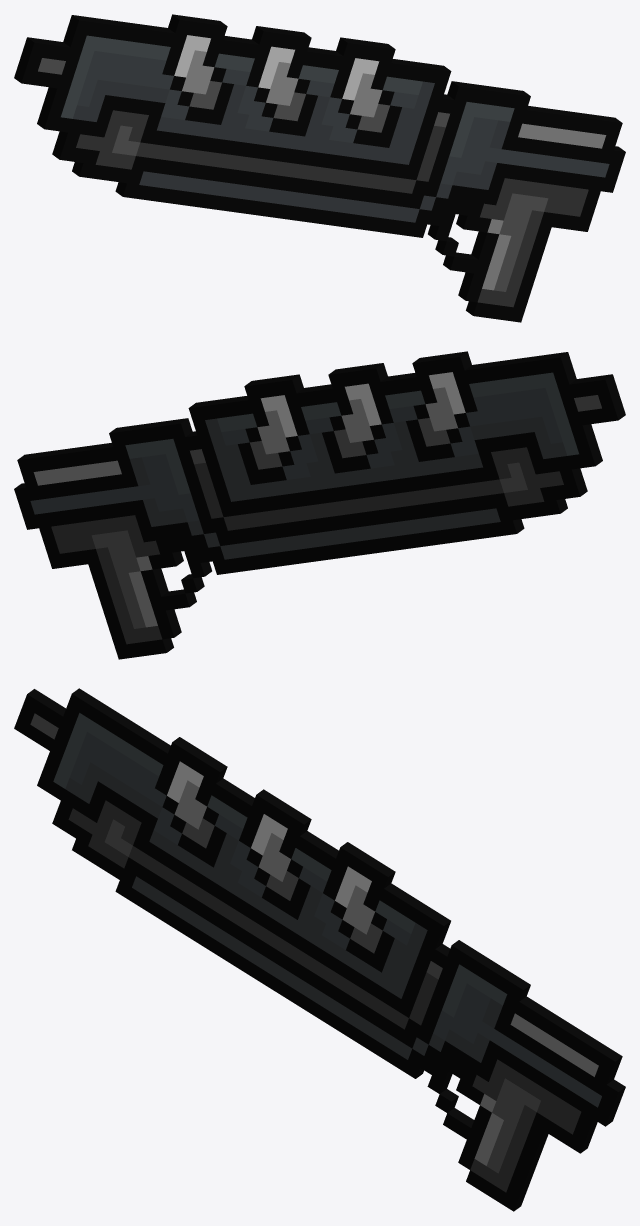
File: Gray Paintball Gun.glb
3 renders of one model, top to bottom at view 1: azimuth 30°, elevation 25°; view 2: azimuth 150°, elevation 25°; view 3: azimuth 330°, elevation 25°, orthographic.
Visible parts, largest first — view 1: Untitled; view 2: Untitled; view 3: Untitled.
Part boxes in pixels (x1=…): Untitled: x1=14, y1=14, x2=625, y2=322; Untitled: x1=14, y1=351, x2=625, y2=659; Untitled: x1=14, y1=688, x2=625, y2=1211.
Bounding box in the file's own units: 18.93 × 12.27 × 0.4.
1 material, 1 textured.
